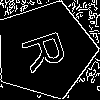R: (20, 25, 78, 75)
